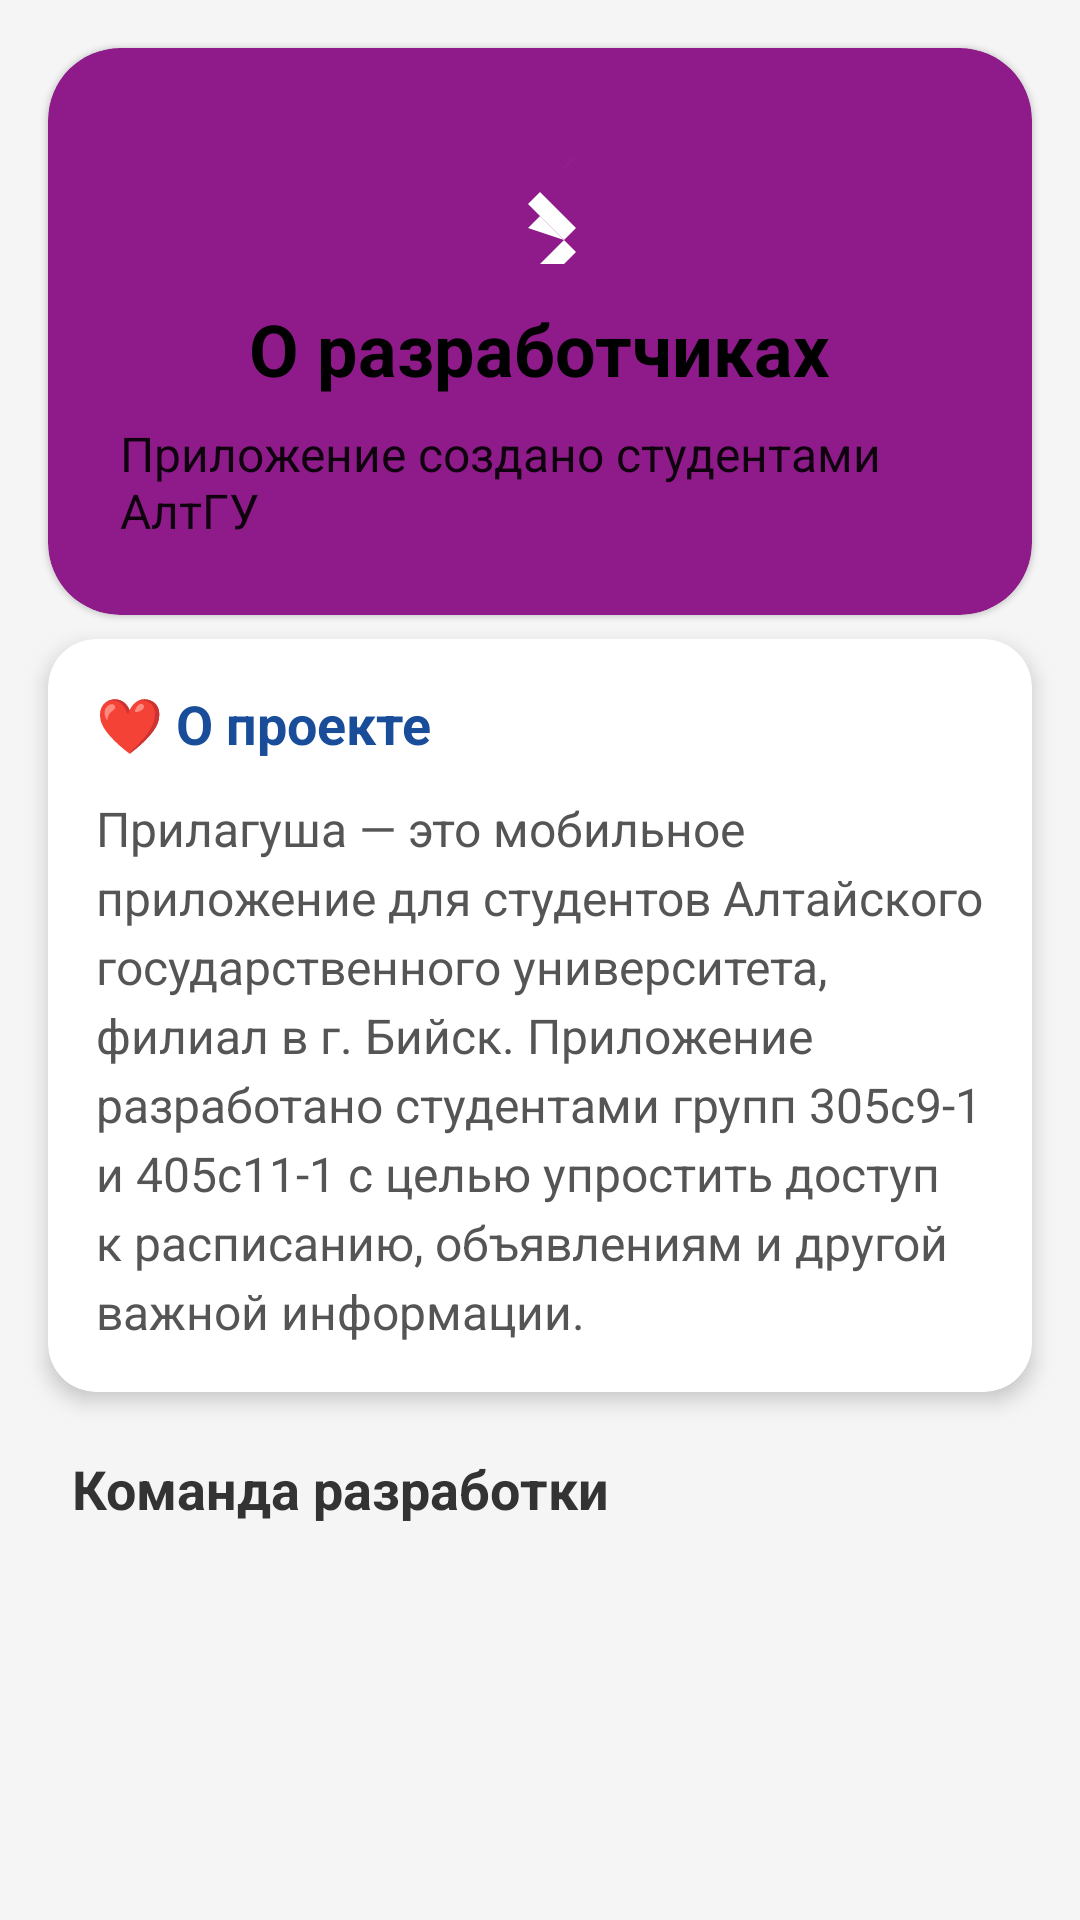

Screen size 1080x1920. Icon name, then its box in pixels as (x1, y1, x2, y2):
code: (528, 192, 576, 264)
